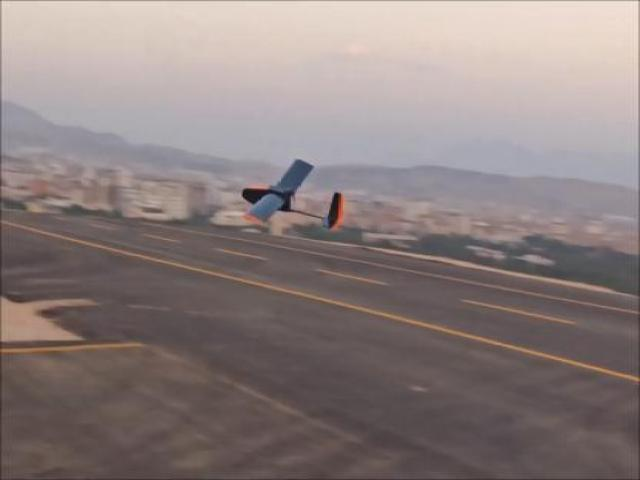uav: (230, 152, 352, 240)
